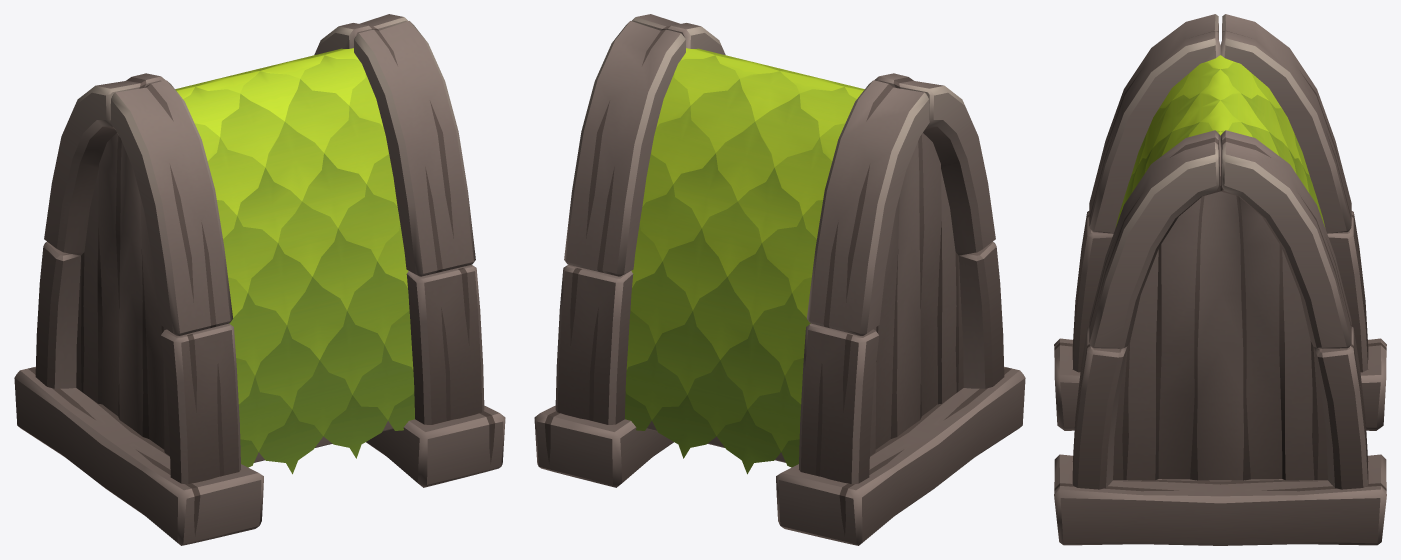
File: elf_building_small.fbx
3 views of the same model, side by side, from view 1: azimuth 30°, elevation 25°; view 2: azimuth 150°, elevation 25°; view 3: azimuth 270°, elevation 25° (orthographic). The views are drawn at different scales.
Visible parts, largest first — view 1: elf_building_small; view 2: elf_building_small; view 3: elf_building_small.
Boxes of the visible parts, x1=… form: elf_building_small: x1=14, y1=14, x2=505, y2=545; elf_building_small: x1=534, y1=14, x2=1025, y2=545; elf_building_small: x1=1054, y1=14, x2=1386, y2=545.
Bounding box in the file's own units: 492 × 569 × 442.
